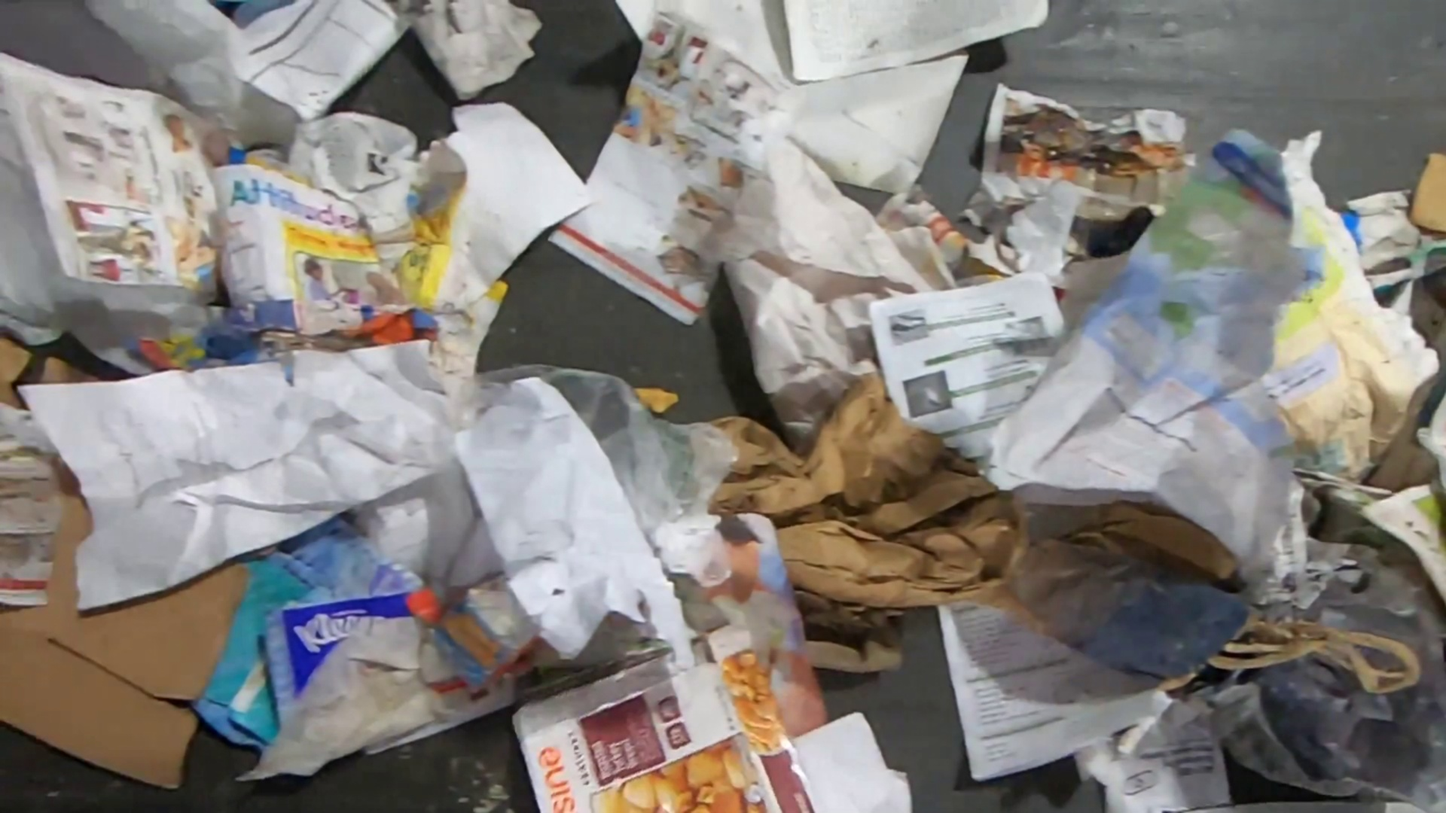cardboard: (0, 455, 252, 792), (509, 623, 915, 813), (192, 510, 428, 758), (1408, 151, 1446, 234)
plastic: (448, 363, 744, 587), (0, 0, 248, 153)
